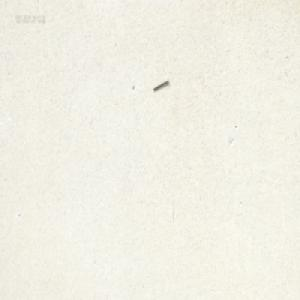Bolt: (152, 78, 168, 90)
